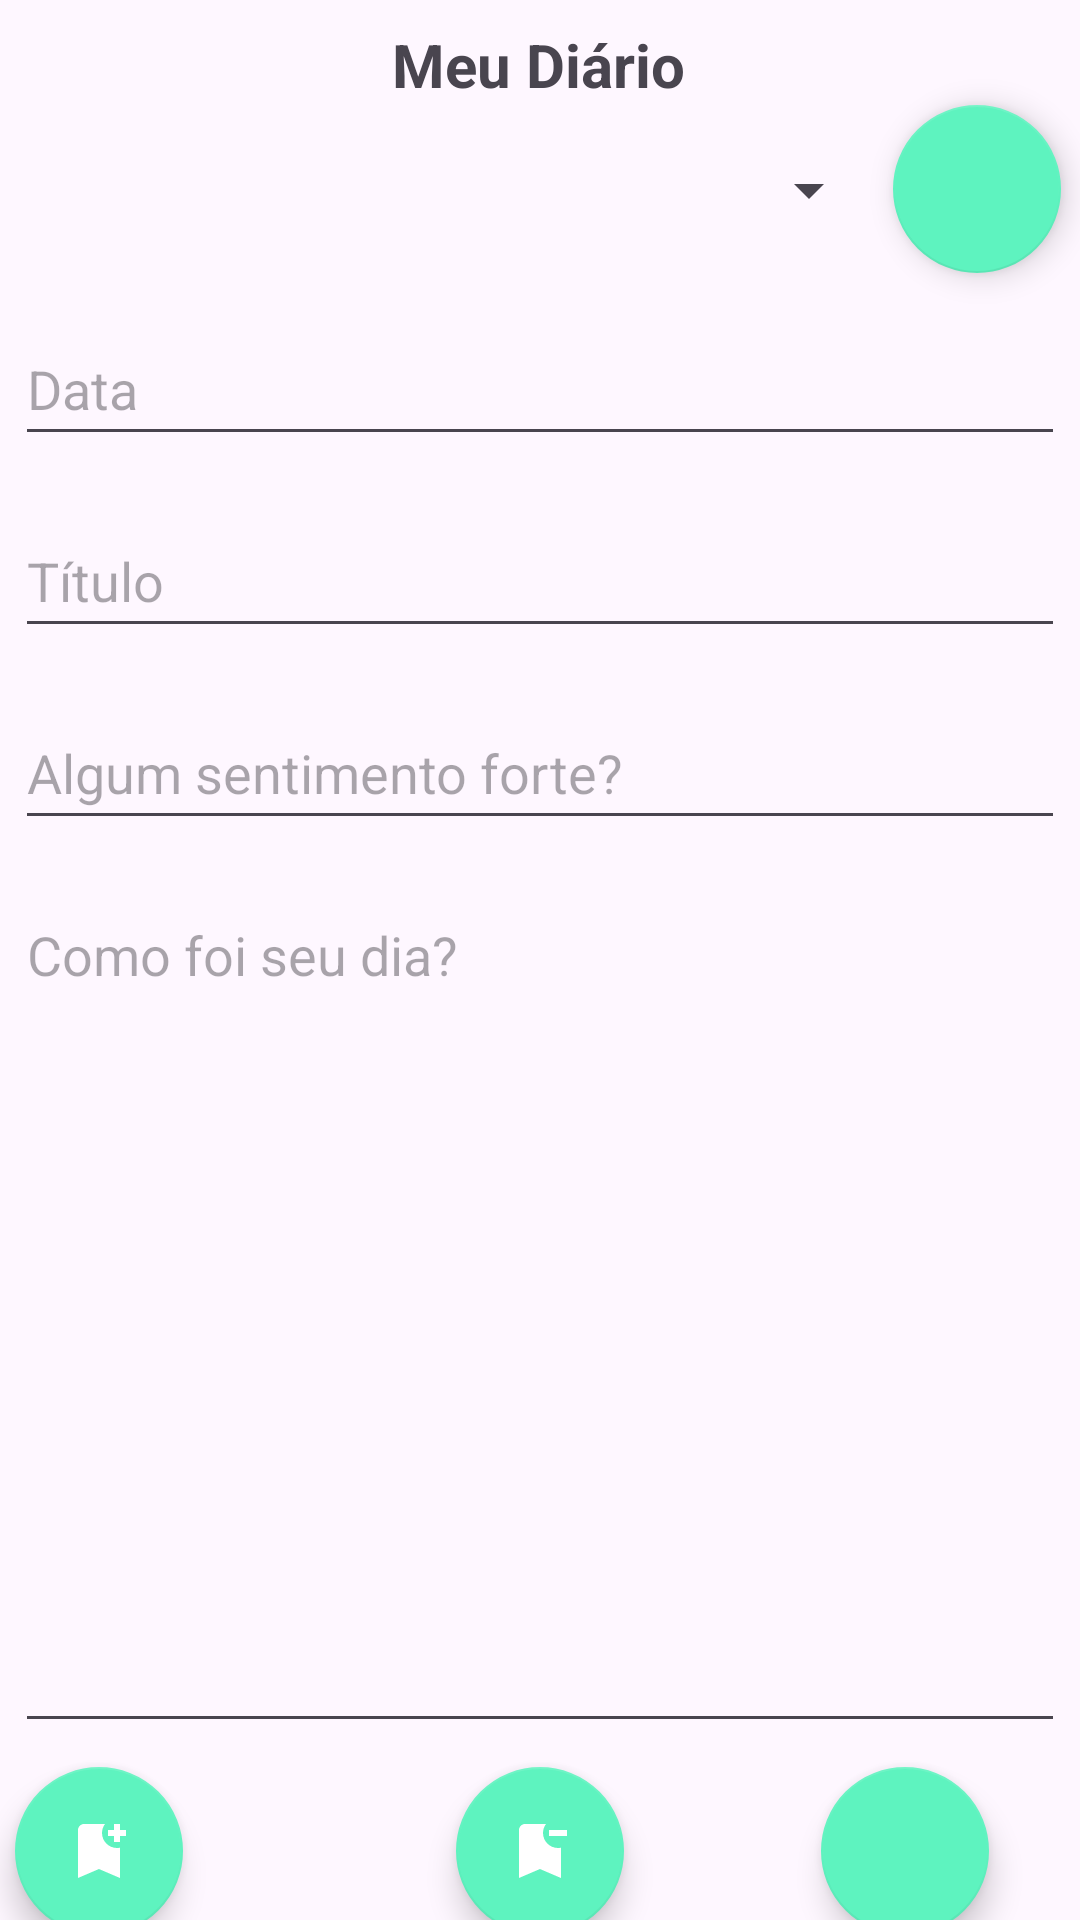

Screen size 1080px x 1920px. Icon name, then its box in pixels as (x1, y1, x2, y2):
add page: (15, 1767, 183, 1920)
bookmark remove: (456, 1767, 624, 1920)
